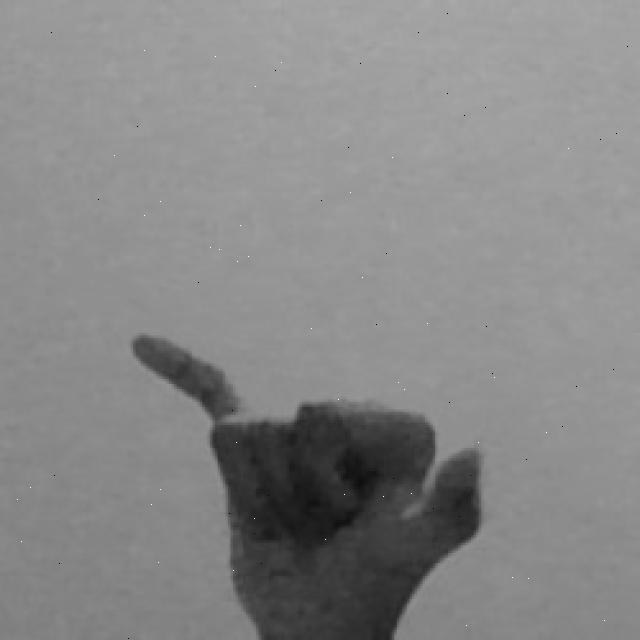Y: (125, 324, 488, 640)
